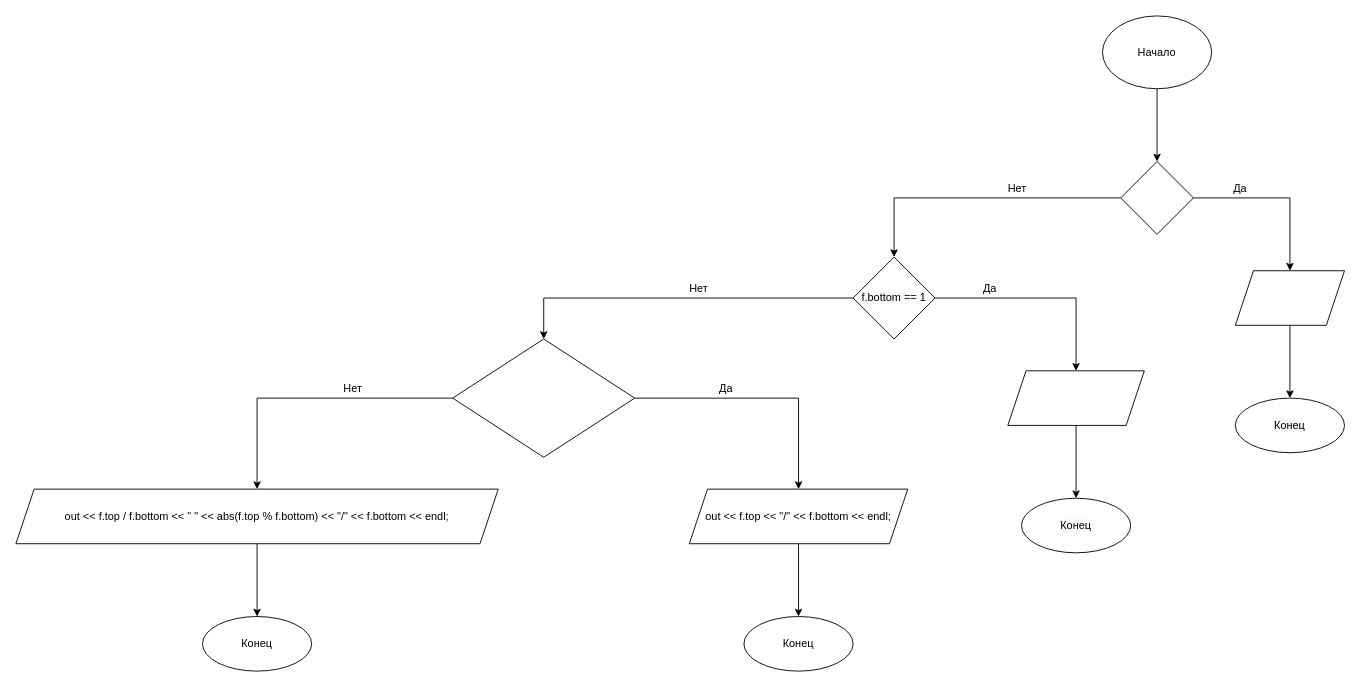
The diagram is 1360 pixels wide and 687 high, and some of its shapes have lost their labels. Here are the shapes that lost their labels. From the top down, the centre of each, then its label:
At [1156,197]: "f.top == 0".
At [1289,297]: "out << 0 << endl;".
At [543,397]: "abs(f.top) < abs(f.bottom)".
At [1075,397]: "out << f.top << endl;".
